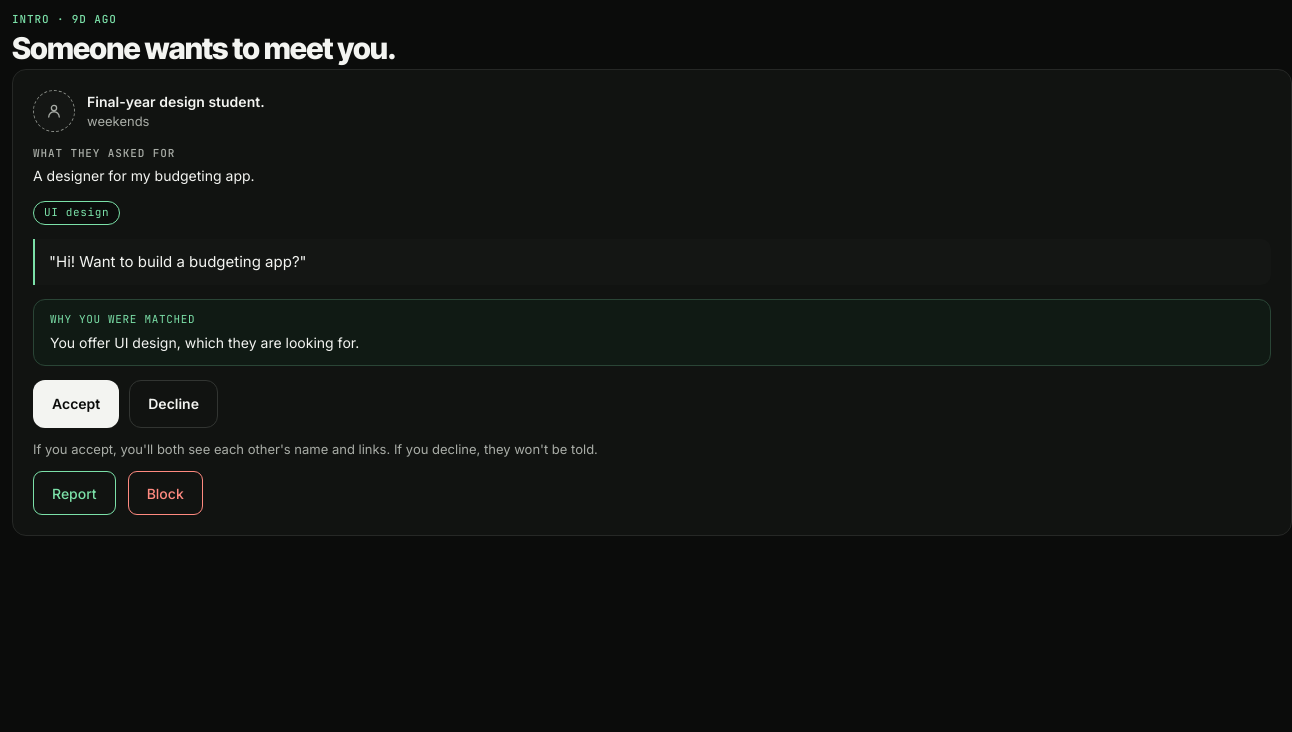
it: IntroCard › accepting reveals the name and links
Click the button "Accept" at (76, 404), box [33,380,119,428]
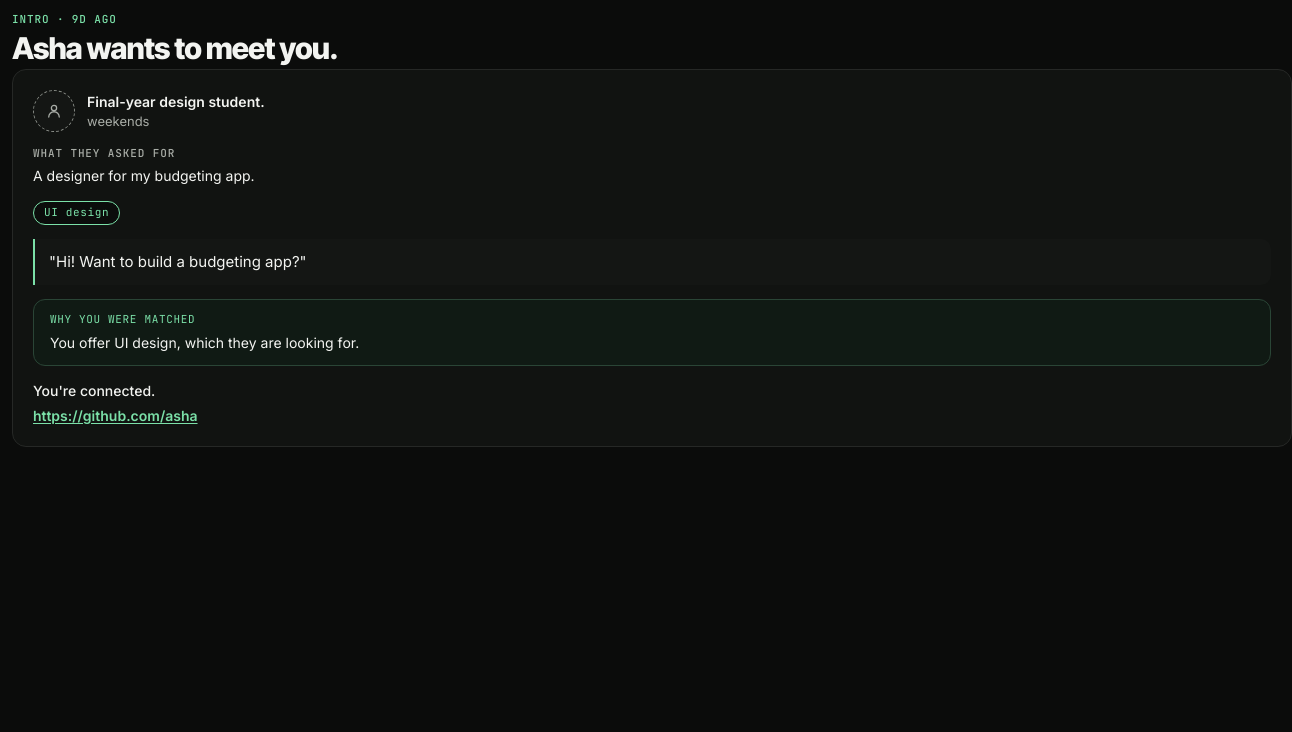
Expected: the heading "Asha wants to meet you." is shown, [12,30,338,66]
Expected: the link "https://github.com/asha" is shown, [33,407,198,424]
